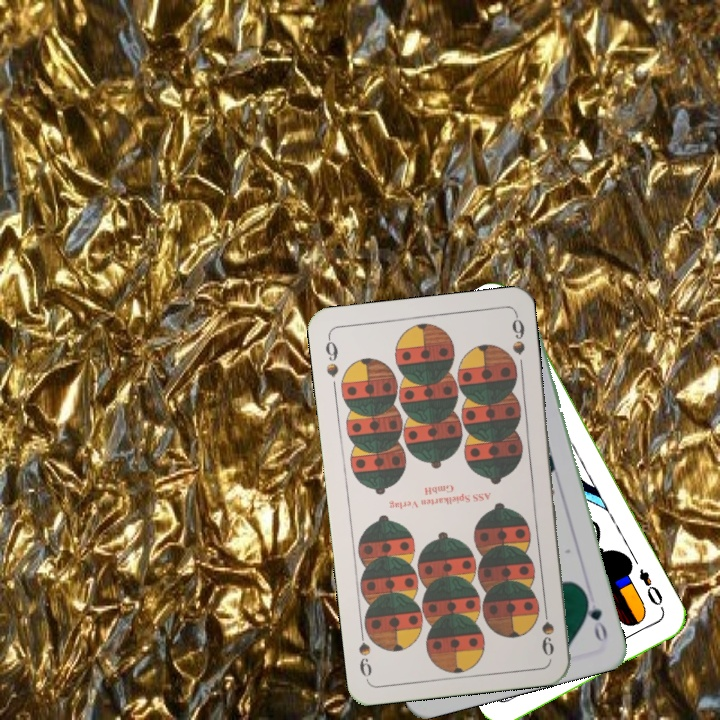EO: (634, 564, 666, 609)
GO: (580, 589, 610, 646)
S9: (538, 600, 557, 659), (321, 332, 341, 380)
